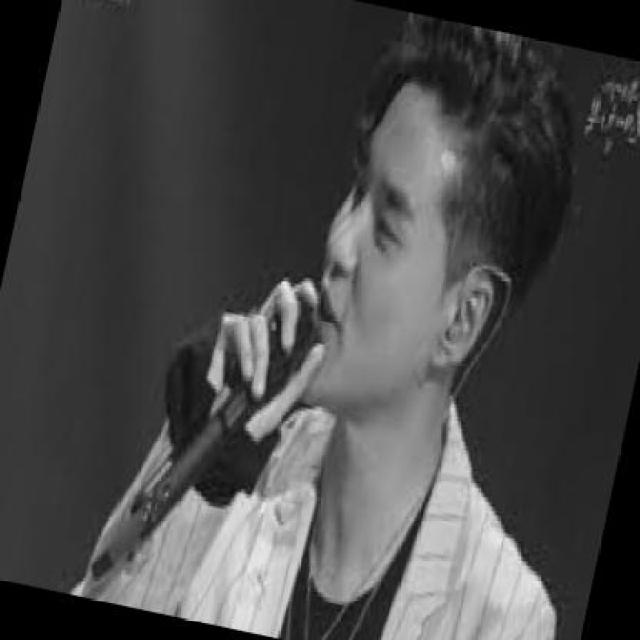earphone: (446, 292, 494, 354)
